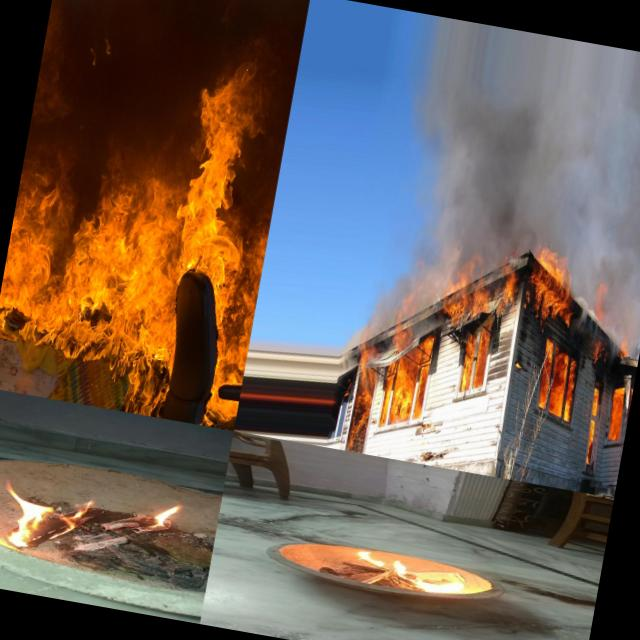fire: (0, 0, 310, 430), (0, 477, 95, 560), (375, 310, 436, 428), (344, 544, 469, 600), (441, 252, 522, 336), (336, 340, 384, 450), (526, 244, 588, 324), (532, 344, 582, 420), (130, 495, 191, 542), (454, 331, 492, 398), (601, 376, 631, 444), (587, 276, 614, 328), (616, 337, 634, 360)
smoke: (392, 14, 640, 264), (396, 224, 456, 318), (606, 258, 640, 340)
